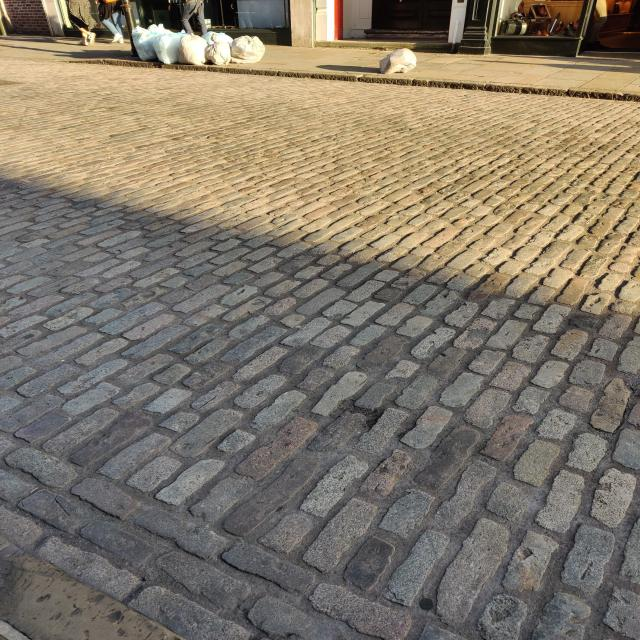litter: (152, 30, 188, 64), (230, 35, 266, 64), (177, 33, 209, 65), (132, 25, 157, 62), (380, 48, 416, 73), (205, 34, 231, 65), (201, 31, 233, 47), (147, 24, 173, 36)
